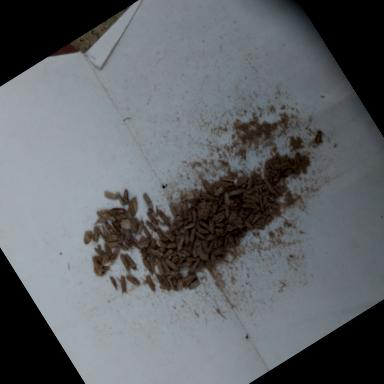pbw: (85, 224, 105, 244), (175, 197, 194, 218), (226, 182, 248, 200), (126, 213, 144, 234), (116, 252, 132, 274), (99, 208, 117, 226), (147, 242, 164, 261), (140, 190, 156, 210), (122, 251, 138, 271), (156, 206, 172, 226), (157, 256, 173, 276), (101, 186, 118, 204), (108, 201, 126, 218), (288, 150, 305, 168), (142, 273, 158, 292), (140, 256, 156, 275), (151, 222, 166, 242), (268, 168, 285, 185), (164, 255, 180, 273), (144, 209, 160, 227), (124, 270, 140, 288), (104, 236, 122, 252), (262, 176, 276, 196), (79, 228, 96, 244), (242, 193, 258, 210), (116, 187, 132, 204), (98, 250, 115, 266), (152, 257, 167, 275), (127, 195, 142, 213), (185, 226, 201, 242), (172, 234, 188, 250), (310, 128, 326, 144), (132, 218, 148, 234), (124, 198, 138, 216), (204, 216, 218, 234), (180, 272, 198, 286), (187, 242, 202, 258), (212, 193, 228, 208), (254, 194, 268, 211), (232, 174, 249, 188), (104, 230, 119, 245), (242, 175, 257, 190), (140, 224, 154, 240), (186, 277, 202, 291), (241, 216, 255, 232), (92, 243, 106, 259), (210, 209, 226, 223), (240, 198, 256, 212), (210, 244, 226, 258), (218, 176, 234, 190), (186, 206, 200, 222), (164, 272, 176, 290), (228, 198, 243, 212), (249, 210, 264, 224), (168, 223, 182, 238), (219, 190, 233, 205), (203, 240, 218, 254), (103, 218, 116, 234), (226, 207, 242, 220), (153, 272, 166, 288), (172, 276, 186, 290), (136, 237, 150, 251), (205, 252, 218, 267), (95, 205, 110, 218), (278, 166, 294, 178), (108, 274, 120, 290), (144, 217, 156, 233), (114, 190, 126, 206), (219, 171, 232, 185), (196, 224, 210, 237), (166, 266, 180, 279), (179, 246, 192, 260), (181, 218, 196, 230), (116, 239, 128, 254), (213, 223, 226, 236), (160, 246, 174, 258), (212, 184, 226, 196), (220, 204, 232, 218), (154, 236, 166, 250), (213, 218, 226, 230), (198, 218, 210, 231), (162, 230, 174, 243), (214, 234, 227, 246), (193, 228, 205, 241), (236, 225, 249, 237), (101, 240, 112, 254), (184, 252, 198, 263), (230, 232, 241, 246), (266, 198, 278, 210), (219, 235, 231, 247), (174, 218, 186, 230), (174, 256, 186, 268), (168, 204, 178, 218), (179, 258, 191, 269), (166, 240, 178, 251), (204, 231, 216, 242), (176, 248, 187, 260), (189, 258, 201, 268), (148, 262, 158, 274), (245, 212, 256, 222), (298, 148, 309, 158), (220, 226, 230, 236), (172, 214, 182, 222)
